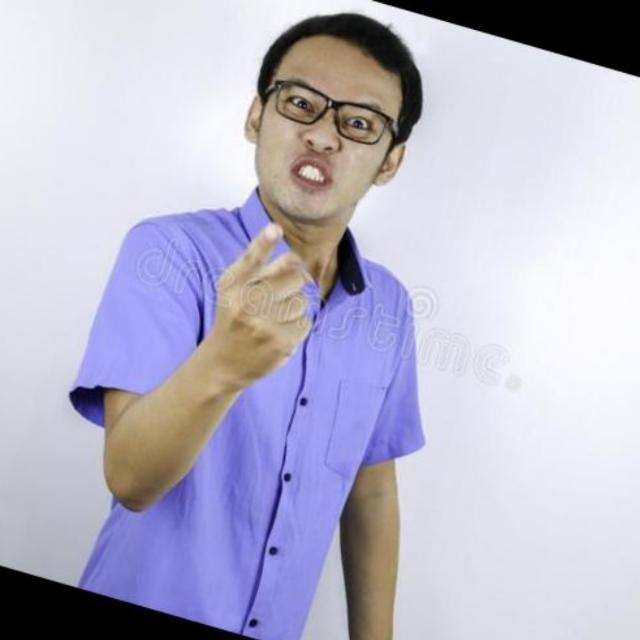Angry: (213, 38, 417, 225)
